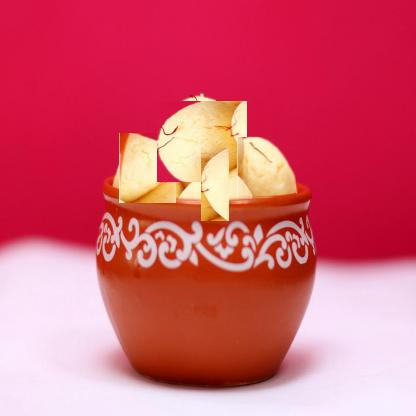rasgulla: (159, 98, 245, 184), (116, 137, 180, 200), (237, 138, 296, 198), (189, 158, 241, 210)
